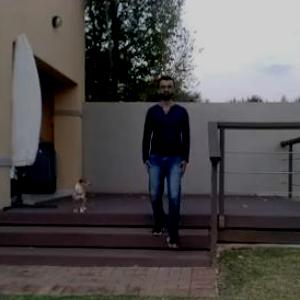follow: (147, 67, 195, 258)
